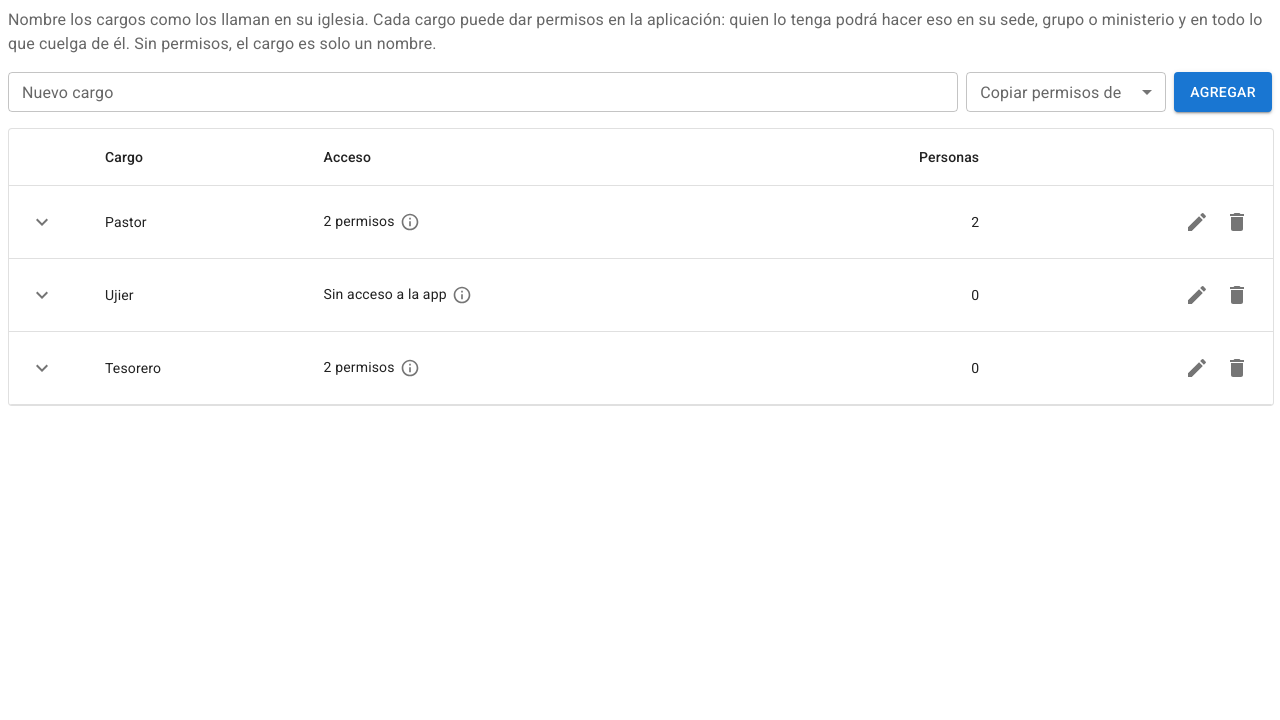
Test case: PositionsManager › opens a position to see its permissions by module and its people
This screenshot has width=1280, height=720.
Click the button named "Abrir Pastor".
click(42, 222)  # box [25,205,59,239]
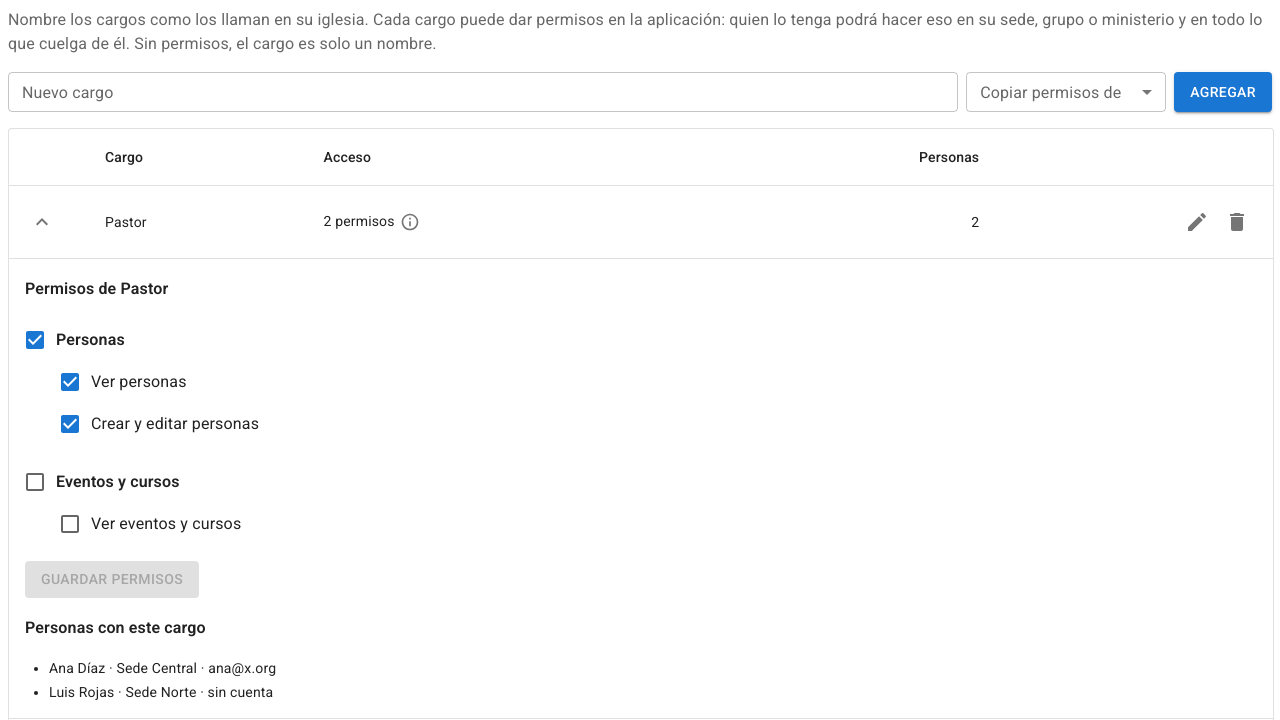
Check: the checkbox labelled "Crear y editar personas" is checked, box [58,412,259,436]
Check: the checkbox labelled "Ver eventos y cursos" is not checked, box [58,512,241,536]
Check: the text "Ana Díaz · Sede Central · ana@x.org" is shown, box [49,660,276,676]
